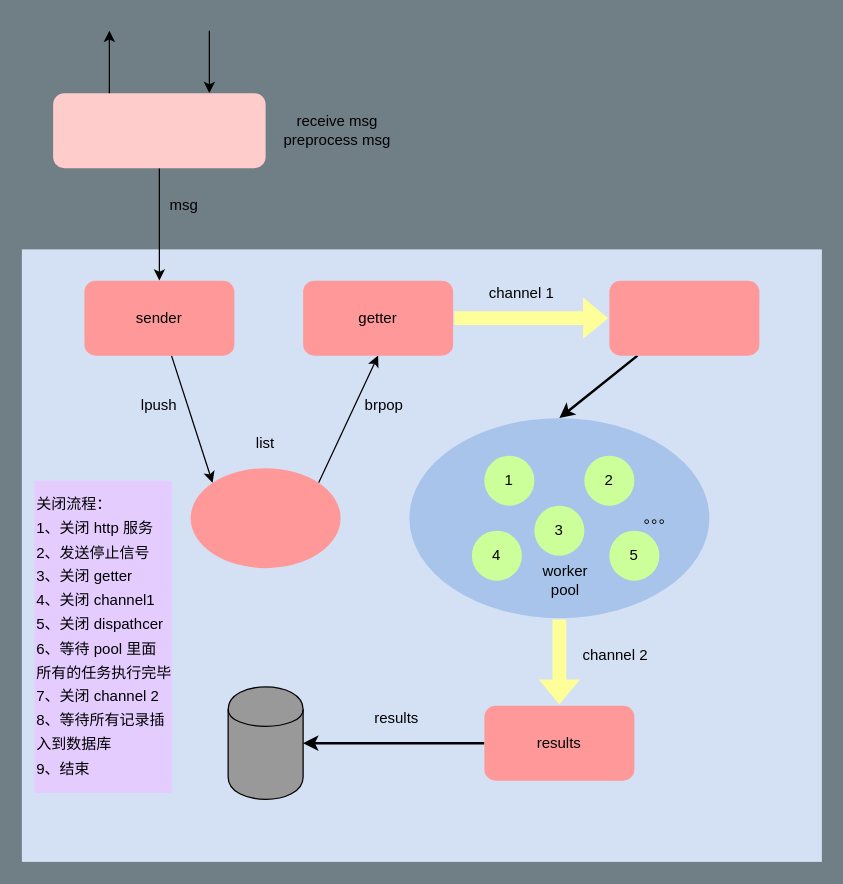
The diagram is 843 pixels wide and 884 high, and some of its shapes have lost their labels. Each missing label, with the centre of its shape:
dispatcher: the point at 684,317
http server: the point at 158,130
mysql: the point at 265,742
redis: the point at 265,518
